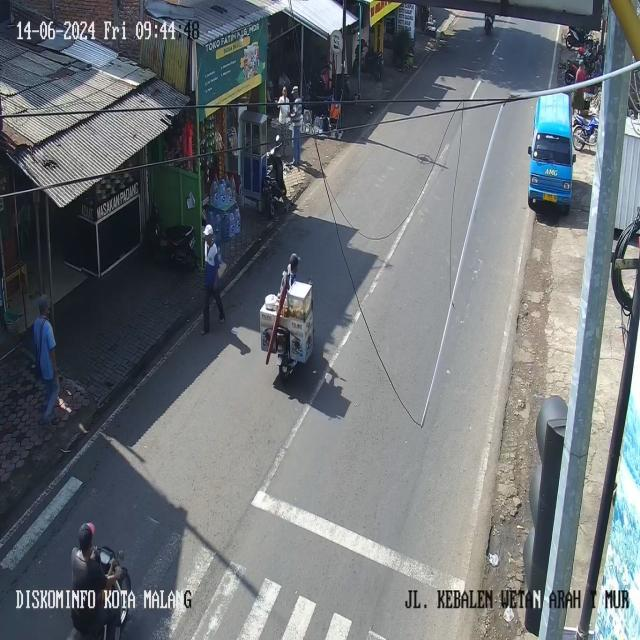Number Plate: (543, 193, 556, 202)
Rearview Mirror: (572, 153, 576, 162), (275, 135, 279, 142), (528, 146, 531, 155)
